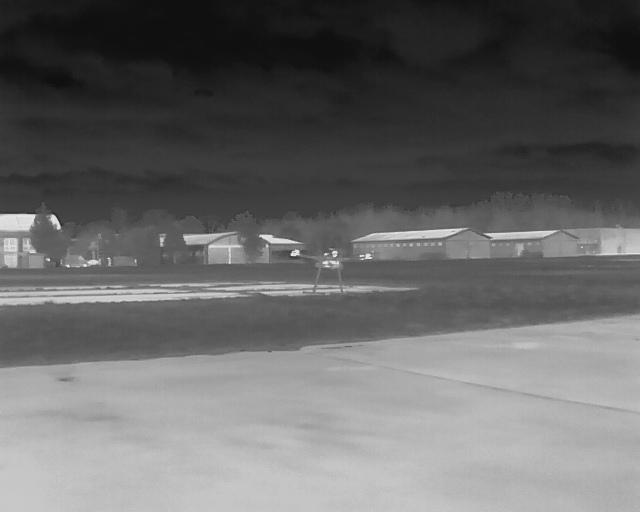drone: (291, 240, 370, 298)
